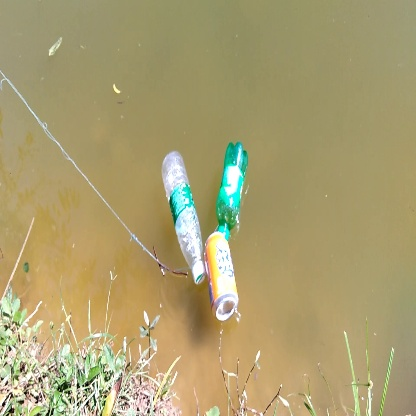bottle: (159, 150, 204, 280), (197, 231, 242, 319), (215, 138, 248, 238)
